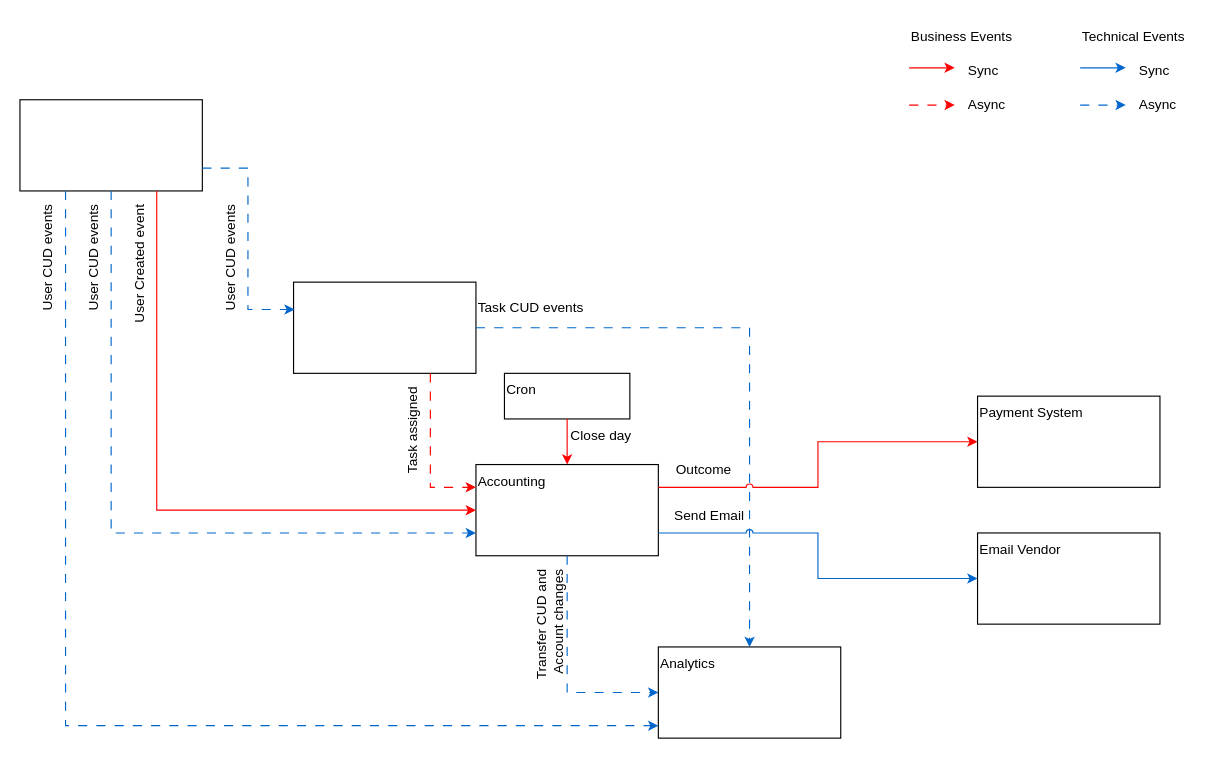
This 1226x758 diagram has some shape labels left out. The centre of each missing label's shape, as x and y in pixels:
SSO / Auth Provider: (110,145)
Task Tracker: (384,327)
